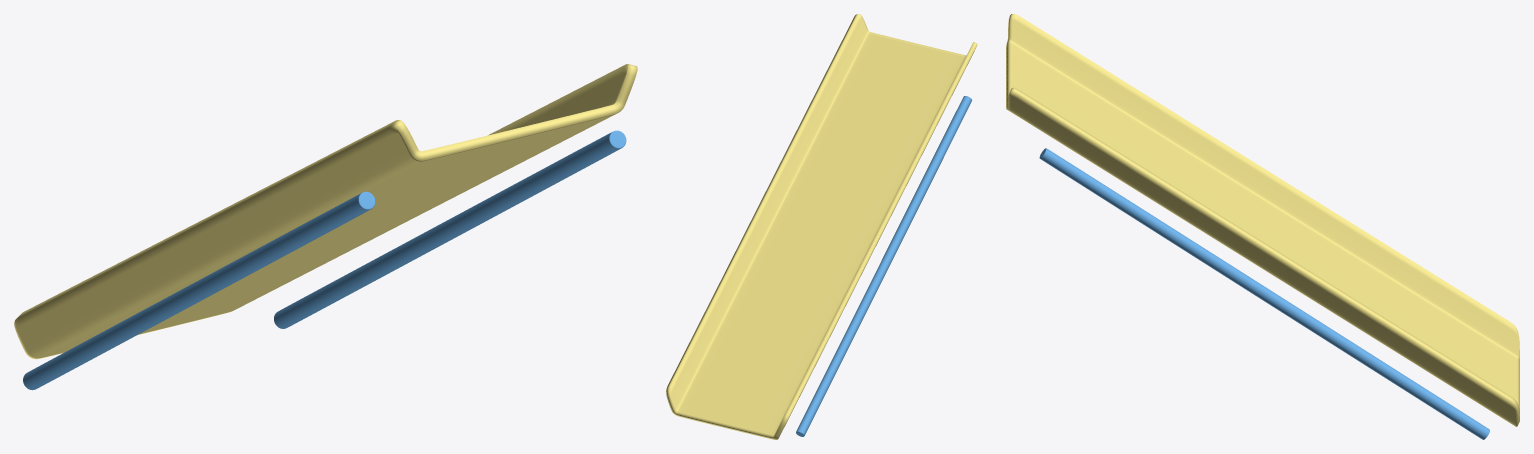
File: Toy_Slide_Hi.fbx
3 renders of one model, left to right at view 1: azimuth 30°, elevation 25°; view 2: azimuth 150°, elevation 25°; view 3: azimuth 270°, elevation 25°, orthographic. The views are drawn at different scales.
Parts seen in each view (by area): view 1: Slide, Cylinder, Cylinder.001; view 2: Slide, Cylinder; view 3: Slide, Cylinder.001.
Boxes of the visible parts, x1=… form: Slide: x1=14, y1=64, x2=637, y2=359; Cylinder: x1=23, y1=191, x2=375, y2=390; Cylinder.001: x1=274, y1=130, x2=626, y2=328; Slide: x1=666, y1=14, x2=977, y2=439; Cylinder: x1=796, y1=96, x2=971, y2=436; Slide: x1=1006, y1=14, x2=1519, y2=426; Cylinder.001: x1=1039, y1=148, x2=1489, y2=439.
Bounding box in the file's own units: 1.28 × 2.41 × 3.22.
